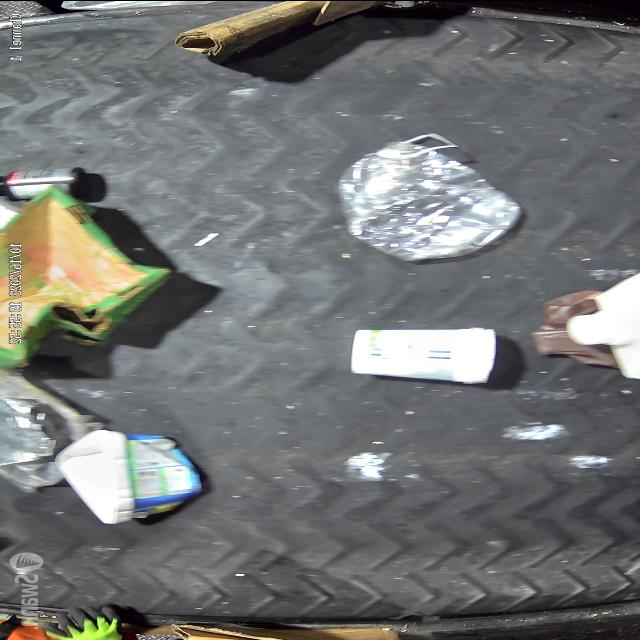can: (0, 392, 56, 476)
plastic_bottle: (337, 132, 522, 264)
